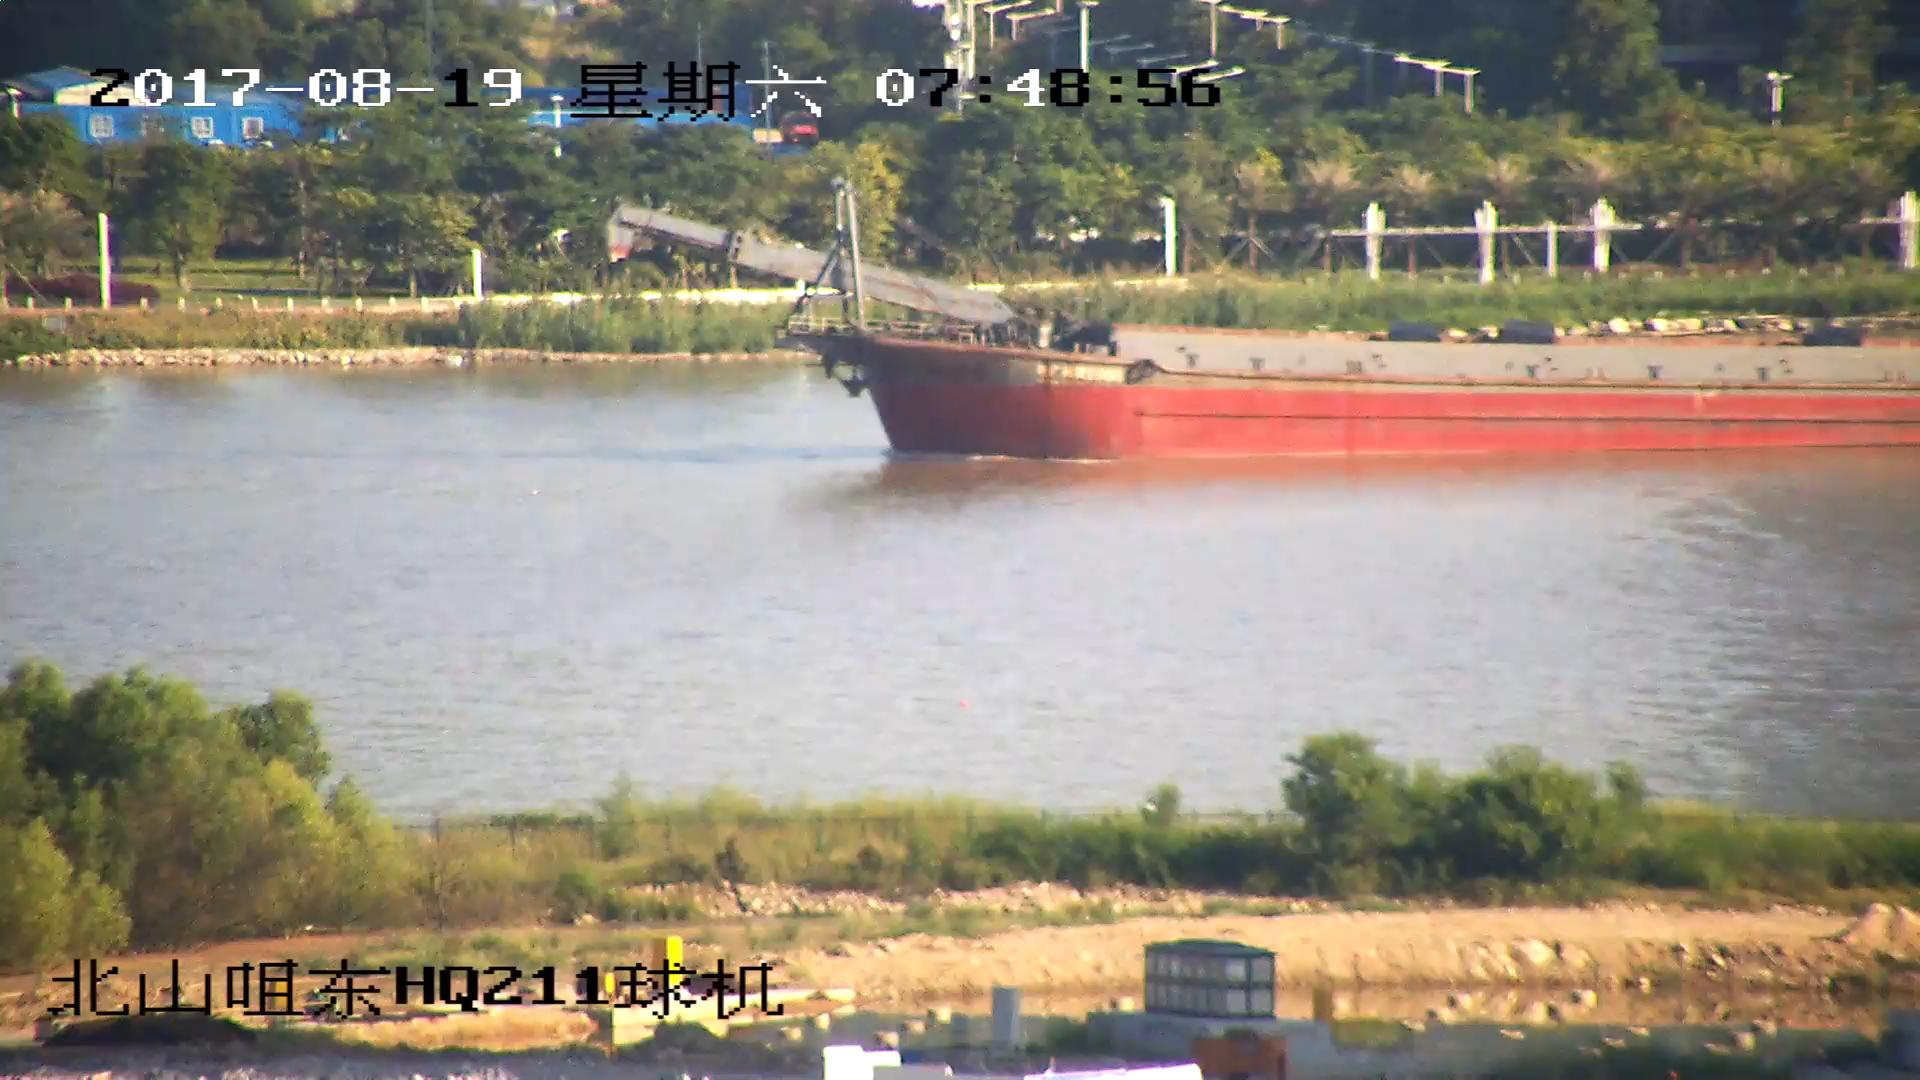bulk cargo carrier: (616, 195, 1920, 464)
